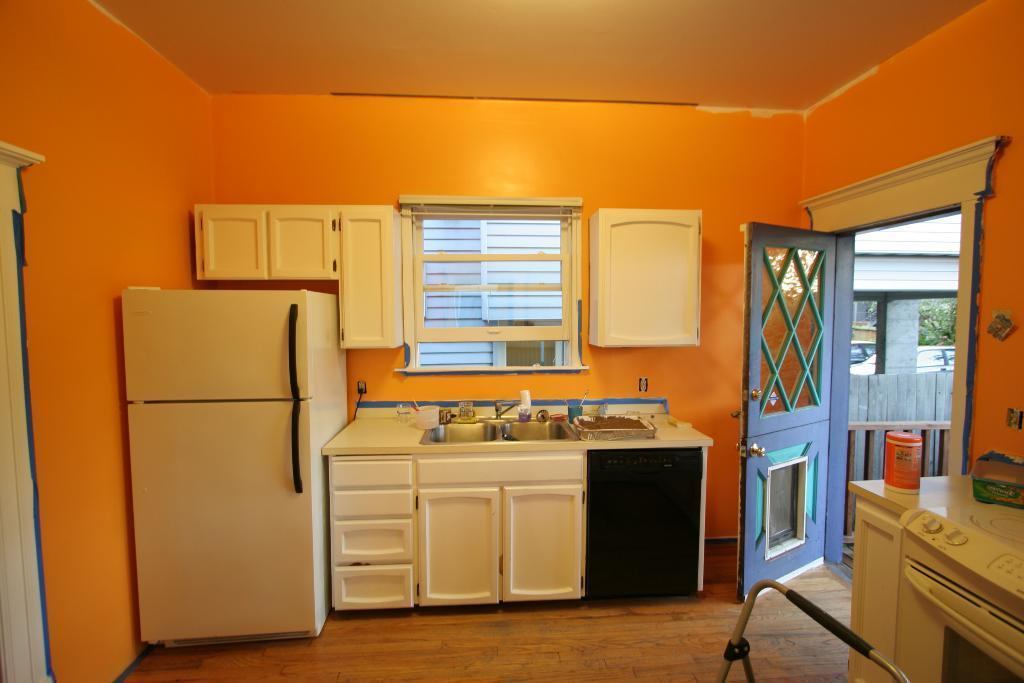door: (738, 241, 838, 576)
handle: (749, 440, 773, 467), (745, 382, 764, 408)
